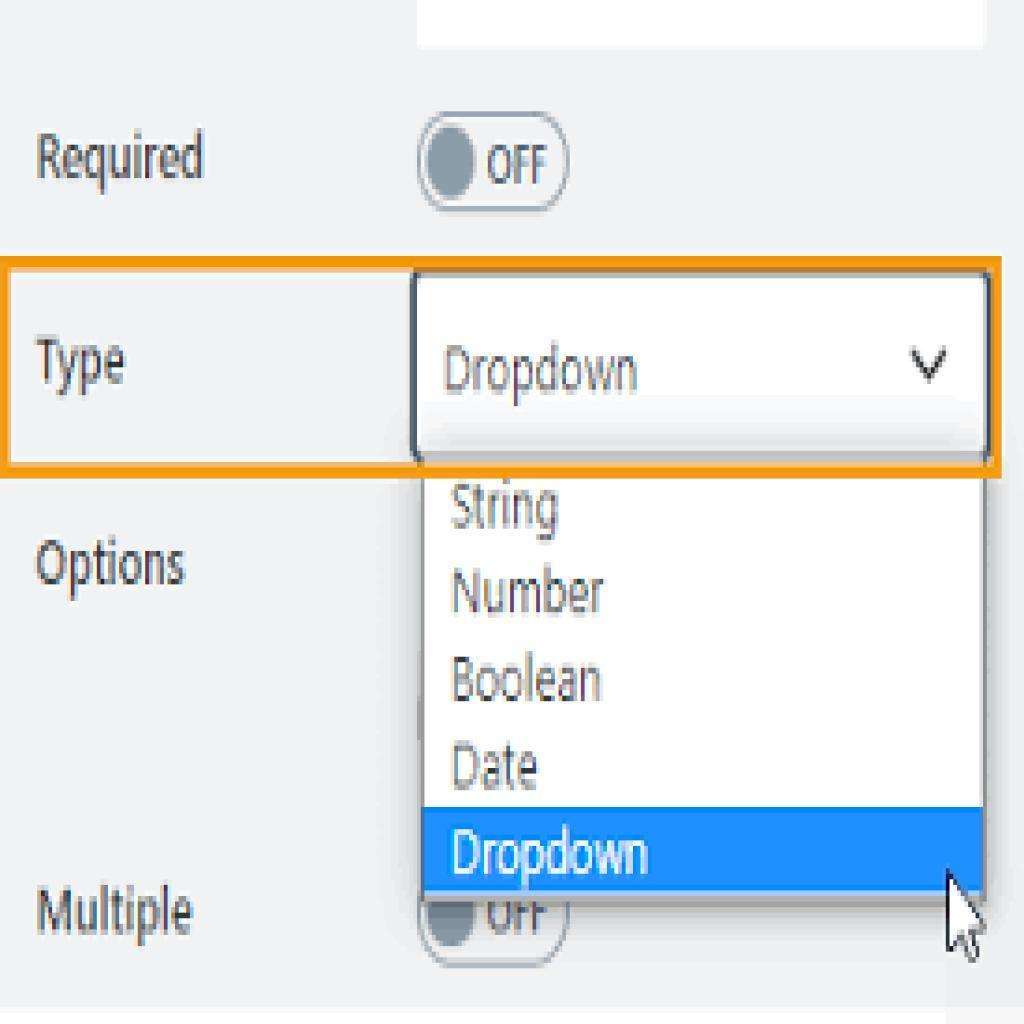dropdown: (413, 272, 988, 459)
label: (31, 127, 220, 195), (30, 876, 204, 949), (25, 534, 191, 604), (30, 332, 137, 403)
switch: (418, 109, 573, 210)
